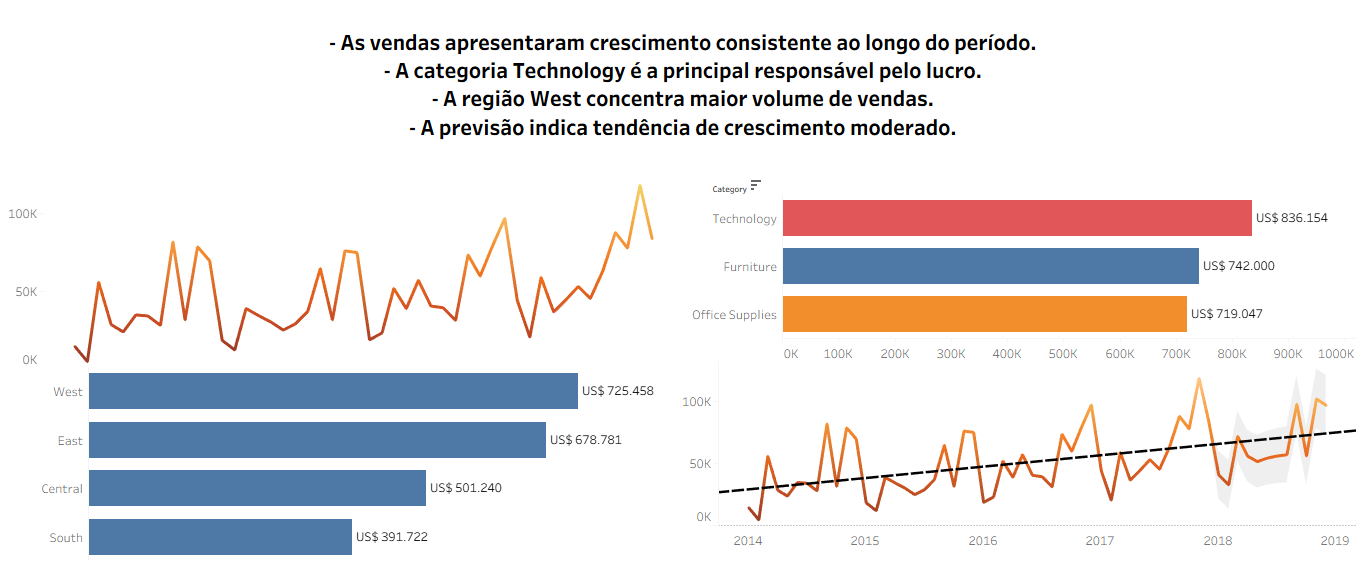

This screenshot's page, from the dashboard's own definition file:
{"tool":"tableau","page":{"name":"Painel 3","canvas":[1000,1000],"units":"permille","ordinal":2},"visuals":[{"type":"text","box":[0,0,1000,317]},{"type":"worksheet","title":"Planilha 14","mark":"Line","rows":["sales"],"cols":["order_date"],"box":[0,311.6,499.6,333.3]},{"type":"worksheet","title":"Vendas por Categoria","mark":"Automatic","rows":["category"],"cols":["sales"],"box":[499.6,311.6,499.6,333.3]},{"type":"worksheet","title":"Indicador de Previsão","mark":"Automatic","rows":["sales"],"cols":["order_date"],"box":[499.6,634.1,499.6,333.3]},{"type":"worksheet","title":"Vendas por Região","mark":"Automatic","rows":["region"],"cols":["sales"],"box":[0,643.1,499.6,333.3]}]}

Visuals, with their boxes on the dashboard's canvas, which has no fixed pixel size, in thousandths of its width and height (x1, y1, x2, y2). These are canvas units, not pixel positions in the 1361x574 screenshot, which may show the page scaled, cropped or inside an application window:
text: region(0, 0, 1000, 317)
"Planilha 14" worksheet (Line marks): region(0, 312, 500, 645)
"Vendas por Categoria" worksheet: region(500, 312, 999, 645)
"Indicador de Previsão" worksheet: region(500, 634, 999, 967)
"Vendas por Região" worksheet: region(0, 643, 500, 976)
